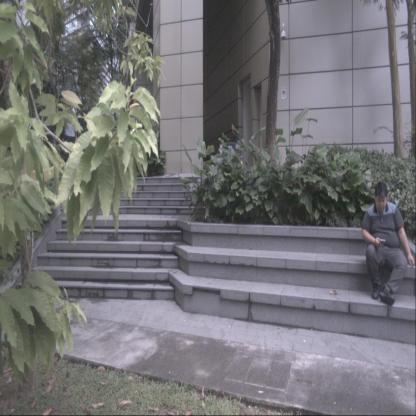human-pedestrian-adult: (361, 182, 415, 304), (63, 96, 78, 174)
